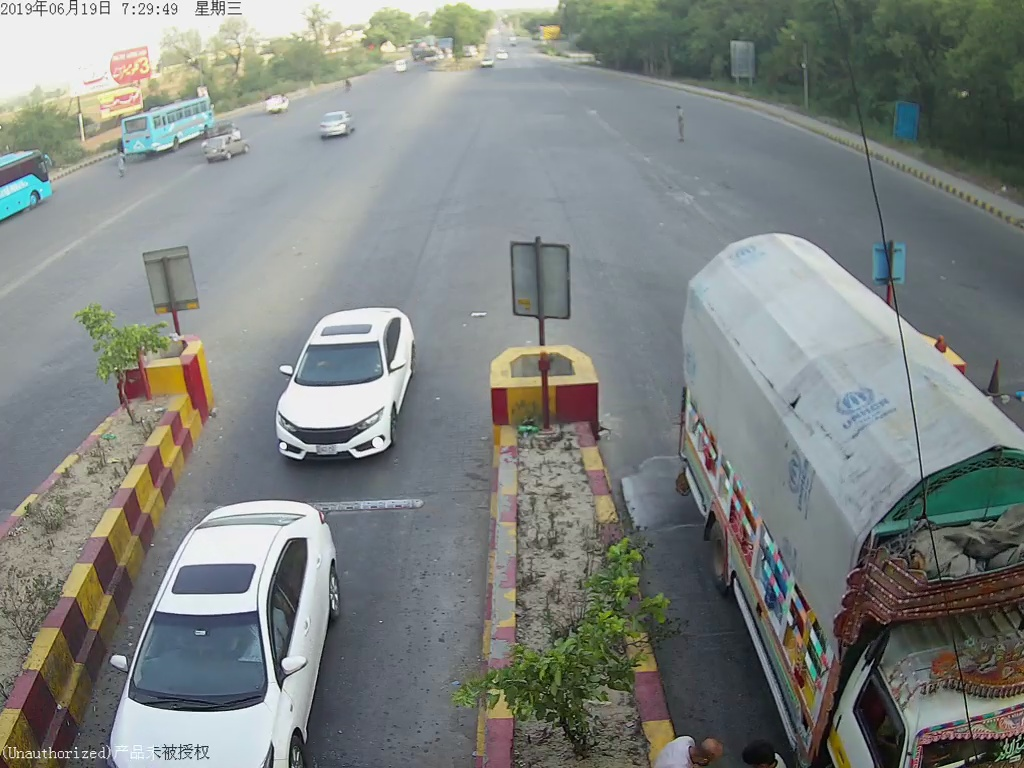Cat-1: (107, 493, 352, 743), (271, 307, 429, 464)
Cat-4: (642, 228, 1024, 768)
